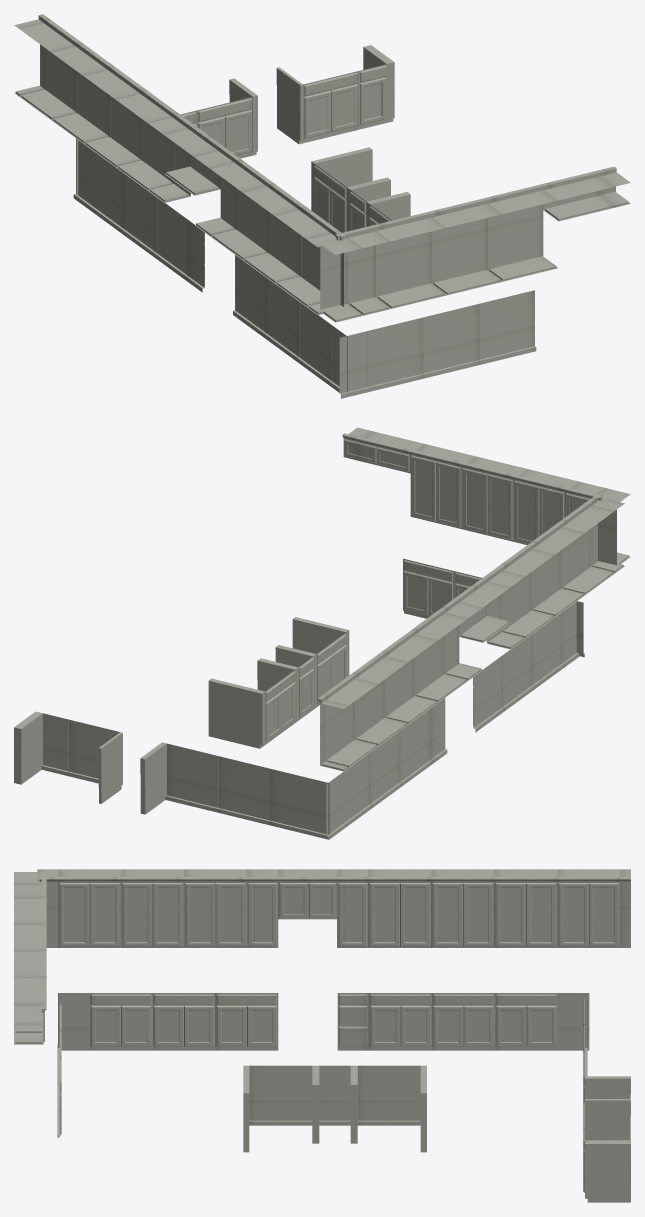
The model's file is cabinets_bolder.glb.
3 renders of one model, top to bottom at view 1: azimuth 30°, elevation 25°; view 2: azimuth 150°, elevation 25°; view 3: azimuth 270°, elevation 25°, orthographic. The views are drawn at different scales.
Parts seen in each view (by area): view 1: Kitchen Cabinets Bolder; view 2: Kitchen Cabinets Bolder; view 3: Kitchen Cabinets Bolder.
Boxes of the visible parts, box(x1,y1,x2,y2) form: Kitchen Cabinets Bolder: box(14, 14, 630, 398); Kitchen Cabinets Bolder: box(14, 427, 630, 839); Kitchen Cabinets Bolder: box(14, 869, 630, 1202).
Size of the model in its own units: 6.4 by 2.93 by 9.8.
1 material, 1 textured.
